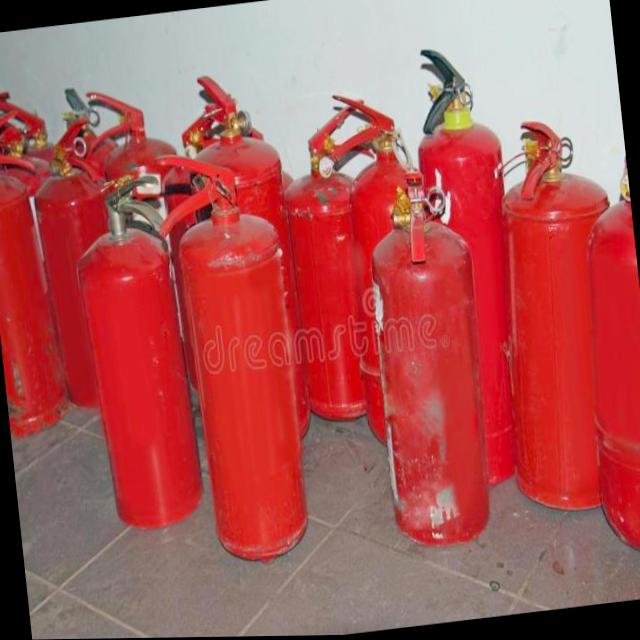FireExtinguisher: (143, 130, 334, 578), (469, 103, 640, 534), (400, 30, 554, 498), (346, 153, 498, 558), (320, 71, 474, 466), (63, 157, 216, 546), (186, 55, 330, 466), (264, 89, 431, 443), (79, 71, 233, 449), (551, 132, 640, 587), (22, 108, 142, 418), (0, 89, 74, 447)
